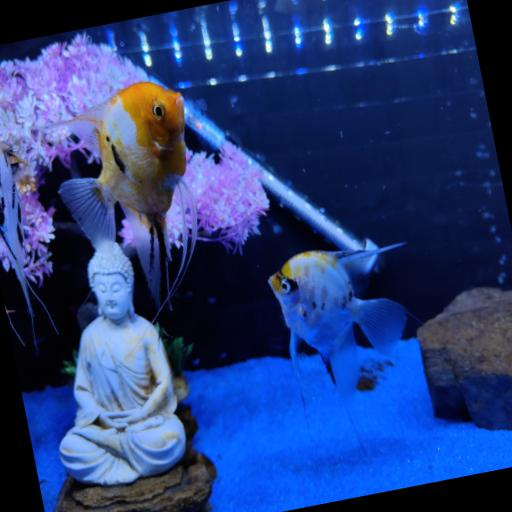Fish: (49, 82, 196, 307), (268, 244, 407, 453), (0, 143, 32, 318)
